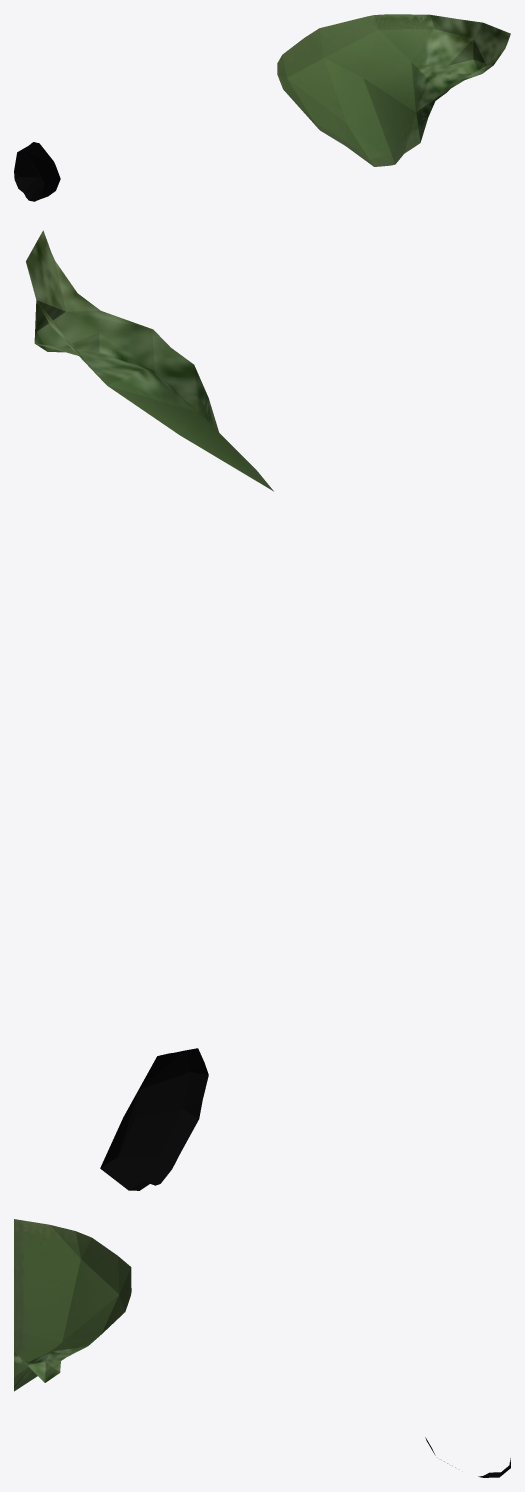
The picture shows the model from 3 angles, top to bottom: view 1: azimuth 30°, elevation 25°; view 2: azimuth 150°, elevation 25°; view 3: azimuth 270°, elevation 25°; orthographic projection. The views are drawn at different scales.
Size of the model in its own units: 3.38 by 3.06 by 4.91.
1 material, 1 textured.
